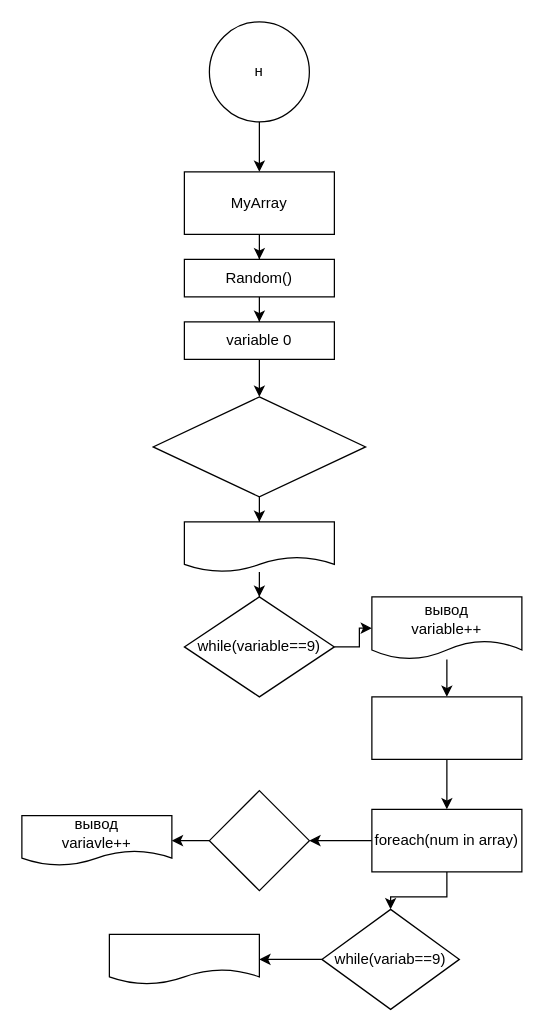
This 544x1031 diagram has some shape labels left out. The shapes that lost their labels are listed below. From the top down, each one's box as (x1, y1, x2, y2) in pixels, then its label:
(152, 396, 366, 497): for(x<array.length), x++
(183, 521, 334, 572): вывод
(371, 696, 522, 759): array.reverse(array)
(208, 789, 309, 891): if(num>=0)
